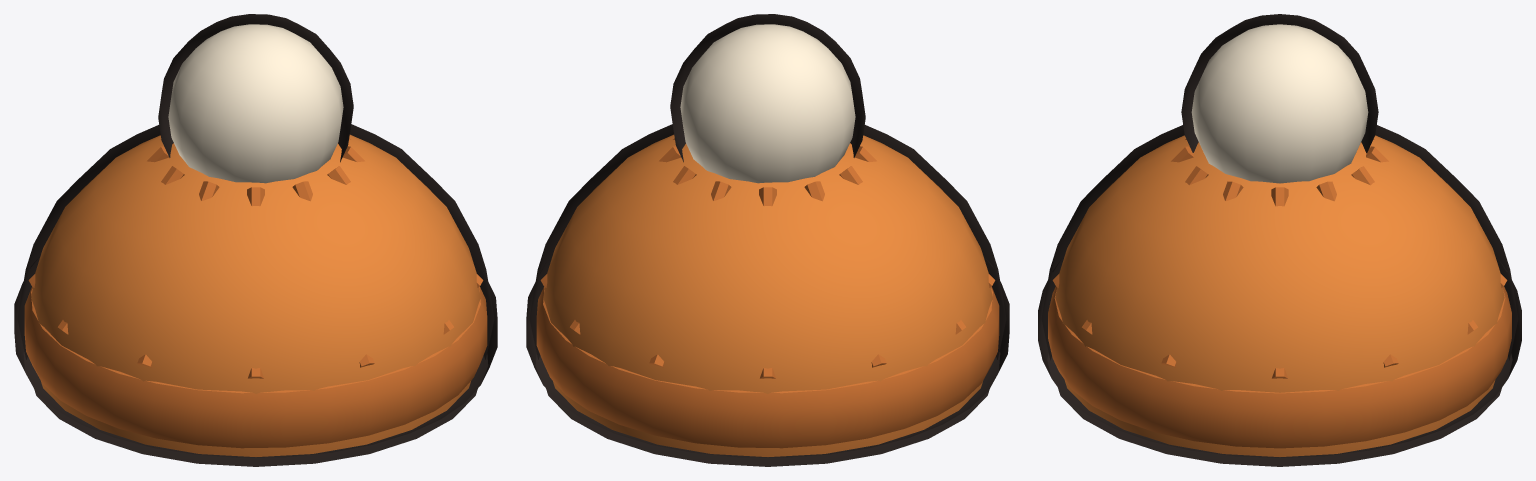
File: hat_beanie.fbx
3 views of the same model, side by side, from view 1: azimuth 30°, elevation 25°; view 2: azimuth 150°, elevation 25°; view 3: azimuth 270°, elevation 25° (orthographic).
Parts seen in each view (by area): view 1: hat_beanie_C_E8873A, hat_beanie_C_D27330, hat_beanie_C_FFF1D8, hat_beanie_Outline; view 2: hat_beanie_C_E8873A, hat_beanie_C_D27330, hat_beanie_C_FFF1D8, hat_beanie_Outline; view 3: hat_beanie_C_E8873A, hat_beanie_C_D27330, hat_beanie_C_FFF1D8, hat_beanie_Outline.
Boxes of the visible parts, x1,y1,x2,y2 form: hat_beanie_C_E8873A: (31,134,480,456); hat_beanie_C_D27330: (24,138,487,448); hat_beanie_C_FFF1D8: (168,24,343,183); hat_beanie_Outline: (14,14,497,466); hat_beanie_C_E8873A: (543,134,992,456); hat_beanie_C_D27330: (536,138,999,448); hat_beanie_C_FFF1D8: (680,24,855,183); hat_beanie_Outline: (526,14,1009,466); hat_beanie_C_E8873A: (1055,135,1504,456); hat_beanie_C_D27330: (1048,139,1511,448); hat_beanie_C_FFF1D8: (1191,24,1368,183); hat_beanie_Outline: (1038,14,1521,466).
Bounding box in the file's own units: 0.6575 × 0.5255 × 0.6575.
